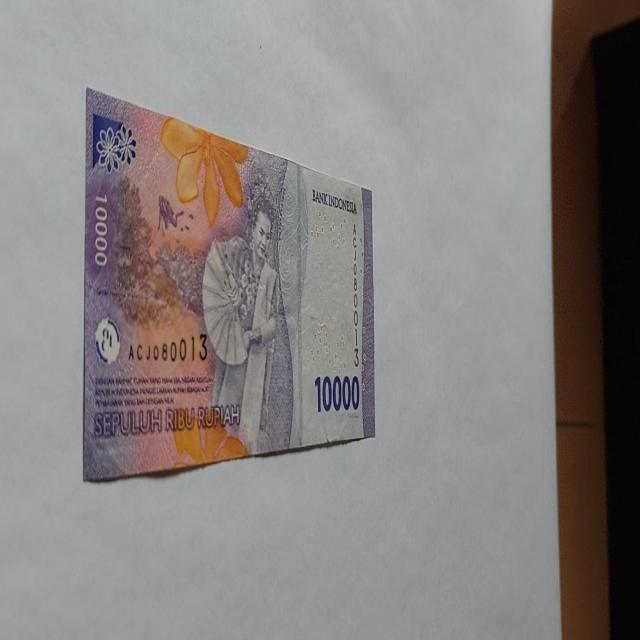sepuluh ribu rupiah: (82, 86, 376, 483), (310, 187, 358, 216)
